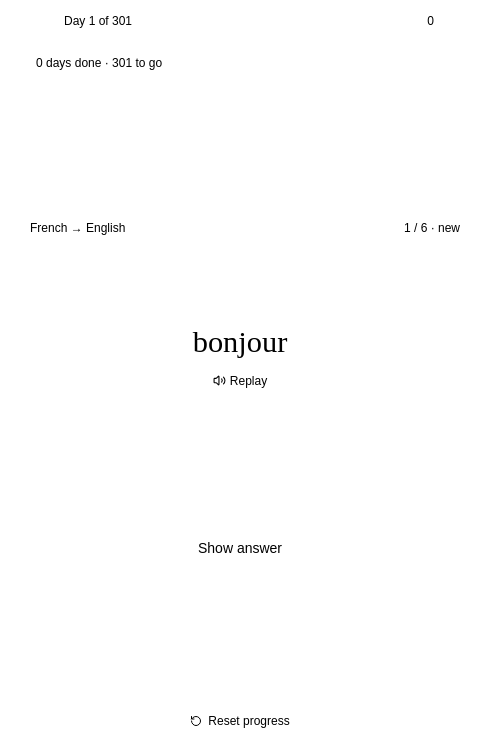
Scenario: marking words wrong in Anki › offers the button only once the answer is shown
Expected: the text "bonjour" is shown, 193,322 -> 287,360
Expected: the text "I got it wrong" is not shown
Click the button "Show answer" at (240, 548), box 16,524 -> 464,572
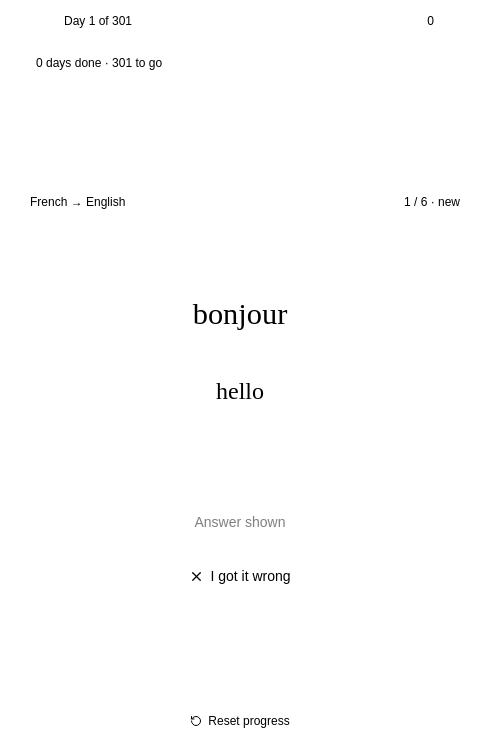
Now the button "I got it wrong" is shown, box 16,554 -> 464,598
